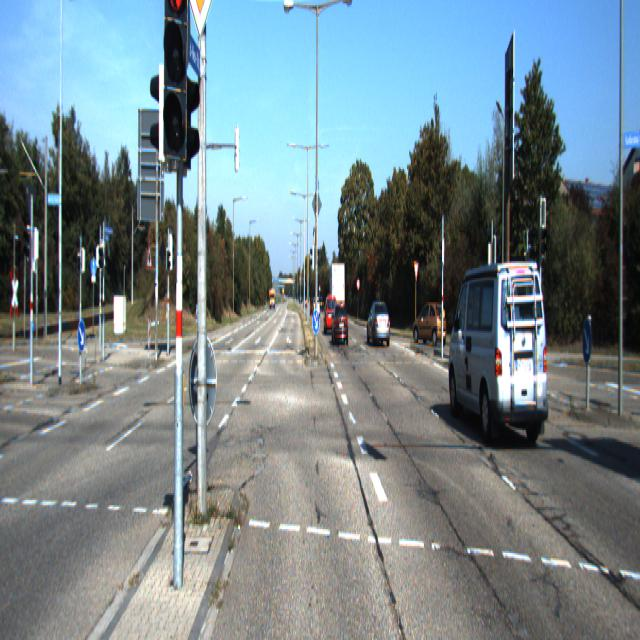Car: (448, 249, 552, 454), (412, 298, 446, 344), (366, 301, 390, 349), (329, 261, 345, 319), (332, 302, 349, 347), (323, 294, 338, 336)
